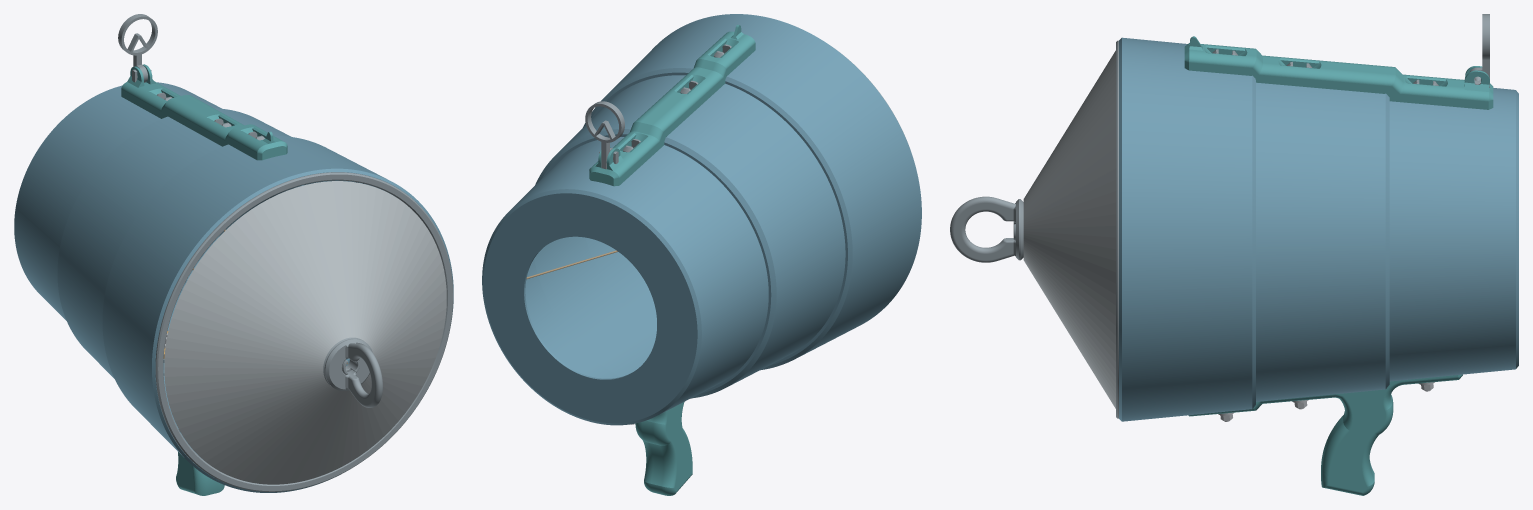
File: selected-pull-60mm-study.glb
3 views of the same model, side by side, from view 1: azimuth 30°, elevation 25°; view 2: azimuth 150°, elevation 25°; view 3: azimuth 270°, elevation 25° (orthographic). The views are drawn at different scales.
Parts seen in each view (by area): view 1: film-study, c-shell-7, c-shell-8, c-shell-6, stock-10, stock-3, stock-5, stock-4, stock-2; view 2: c-shell-6, c-shell-8, c-shell-7, stock-3, stock-4, stock-2; view 3: c-shell-7, c-shell-8, c-shell-6, film-study, stock-3, stock-4, stock-5, stock-10.
Part boxes in pixels (x1,y1,x2,y2): film-study: (164, 181, 446, 484); c-shell-7: (102, 136, 453, 492); c-shell-8: (57, 108, 362, 432); c-shell-6: (14, 82, 303, 375); stock-10: (155, 172, 453, 491); stock-3: (121, 64, 287, 160); stock-5: (324, 338, 382, 407); stock-4: (176, 452, 224, 495); stock-2: (118, 14, 157, 82); c-shell-6: (482, 137, 768, 425); c-shell-8: (534, 75, 845, 398); c-shell-7: (583, 14, 921, 370); stock-3: (589, 24, 755, 186); stock-4: (635, 402, 692, 495); stock-2: (585, 101, 624, 169); c-shell-7: (1119, 37, 1255, 421); c-shell-8: (1256, 82, 1389, 401); c-shell-6: (1389, 88, 1518, 381); film-study: (1023, 50, 1115, 408); stock-3: (1184, 36, 1493, 109); stock-4: (1188, 374, 1462, 495); stock-5: (950, 196, 1023, 262); stock-10: (1116, 40, 1118, 418).
Bounding box in the file's own units: 0.2496 × 0.341 × 0.3698.
